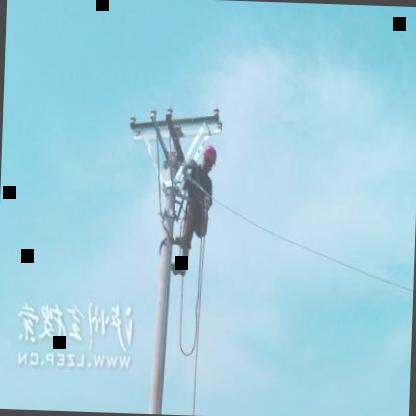helmet: (201, 141, 219, 174)
